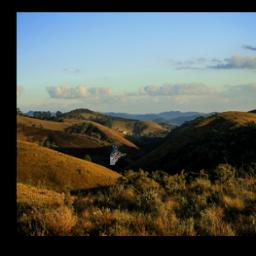Sparrow: (109, 144, 126, 166)
